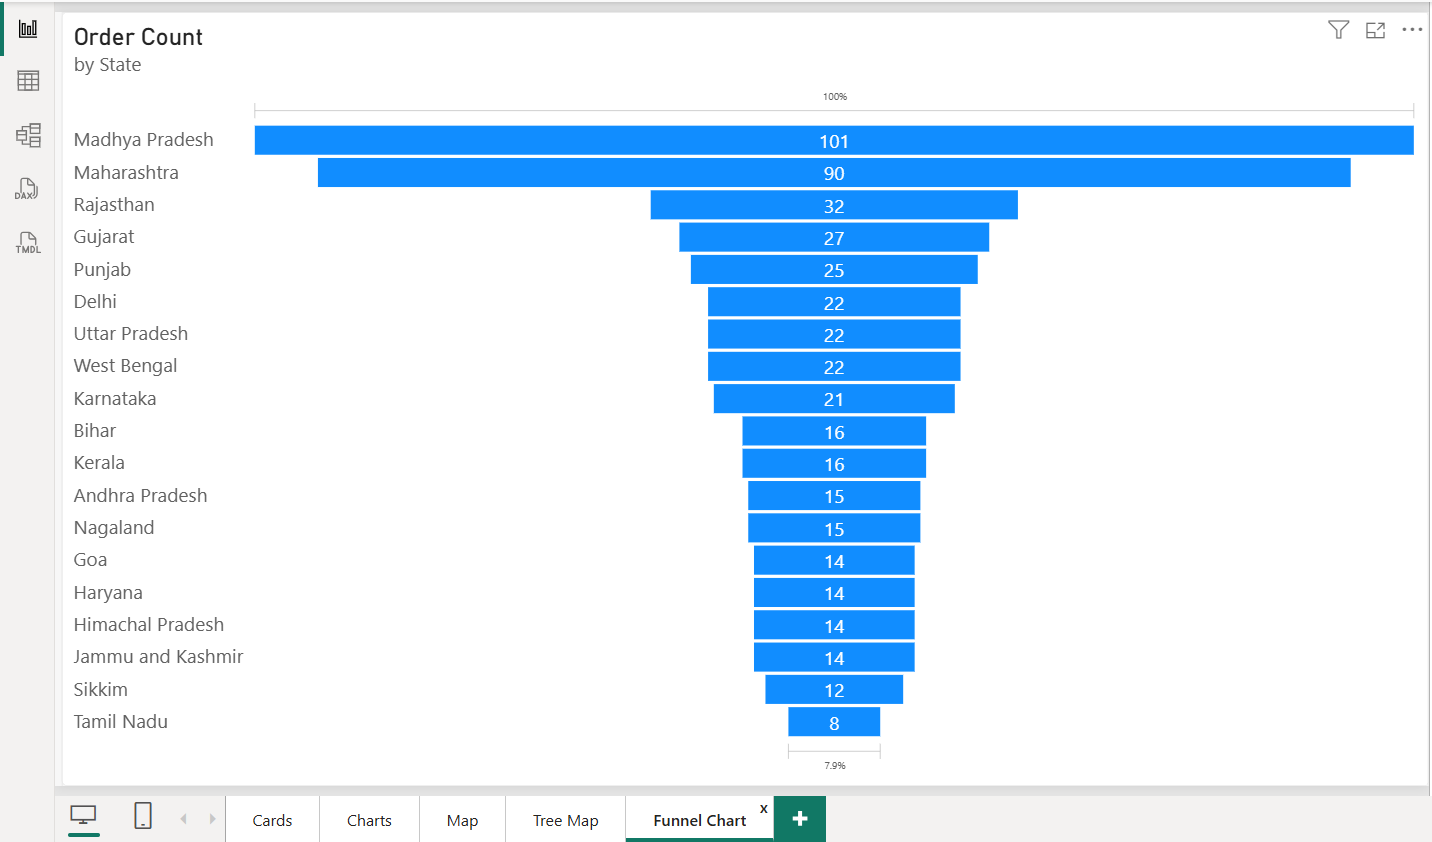

What the dashboard file says about the page in this screenshot:
{"tool":"powerbi","page":{"name":"Funnel Chart","canvas":[1920,1080],"ordinal":4},"visuals":[{"type":"funnel","fields":{"Category":["List of Orders.State"],"Y":["Order Details.Order Count"]},"box":[9.2,0,1910.2,1080.7],"z":0}]}

Visuals, with their boxes on the page's 1920x1080 design canvas (x1, y1, x2, y2). These are canvas units, not pixel positions in the 1432x842 screenshot, which may show the page scaled, cropped or inside an application window:
funnel - List of Orders.State x Order Details.Order Count: <box>9,0,1919,1081</box>
